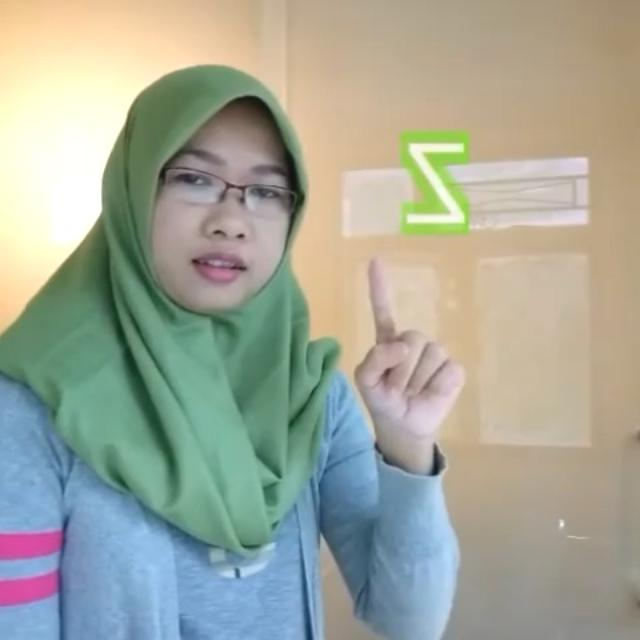Z: (351, 252, 469, 448)
